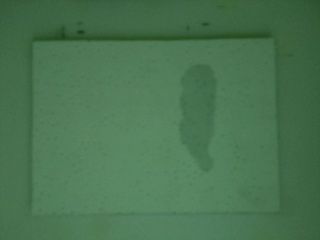Water_detected: (179, 78, 220, 159)
